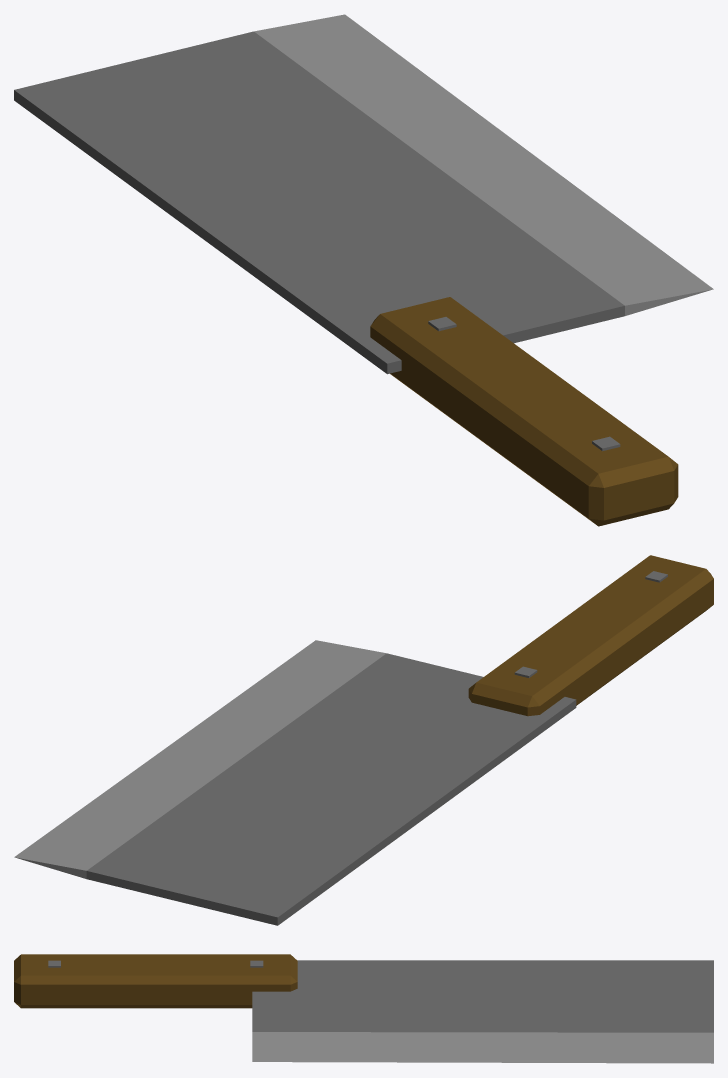
Rendered from prep_knife.glb.
3 renders of one model, top to bottom at view 1: azimuth 30°, elevation 25°; view 2: azimuth 150°, elevation 25°; view 3: azimuth 270°, elevation 25°, orthographic. The views are drawn at different scales.
Visible parts, largest first — view 1: Plane; view 2: Plane; view 3: Plane.
Boxes of the visible parts, bbox=[...] form: Plane: bbox=[14, 14, 713, 526]; Plane: bbox=[14, 555, 713, 925]; Plane: bbox=[14, 954, 713, 1063].
Bounding box in the file's own units: 0.6601 × 0.1104 × 1.95.
